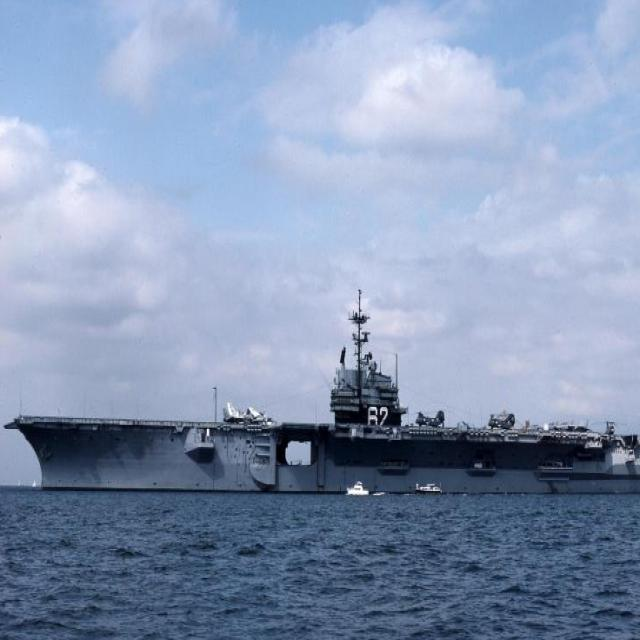Portanaves: (3, 283, 640, 496)
